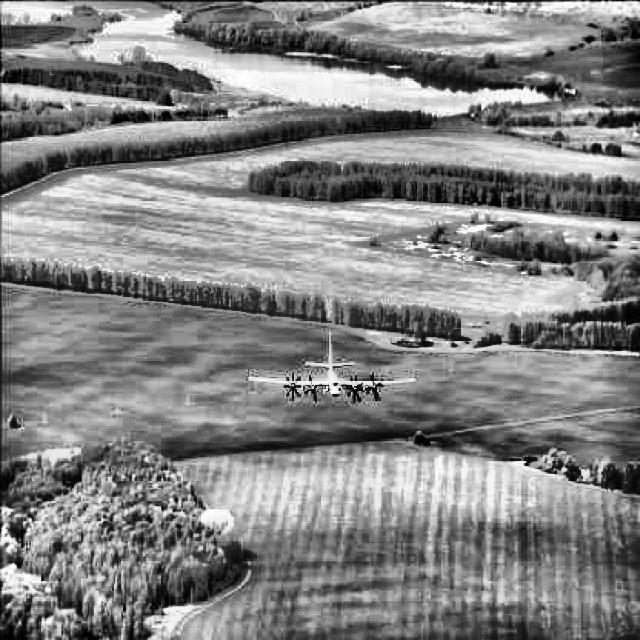Tu95: (250, 331, 416, 402)
